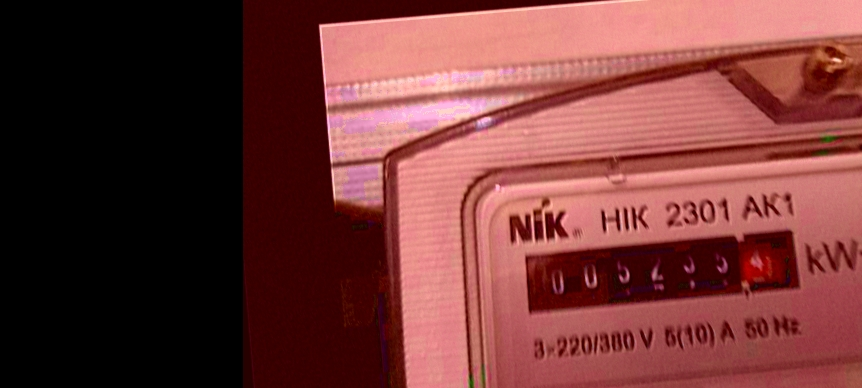0: (581, 258, 604, 293), (550, 265, 570, 298)
2: (647, 250, 670, 285)
3: (678, 245, 705, 280)
4: (747, 239, 772, 277)
5: (712, 241, 737, 279), (615, 254, 636, 288)
screen: (508, 216, 816, 328)
